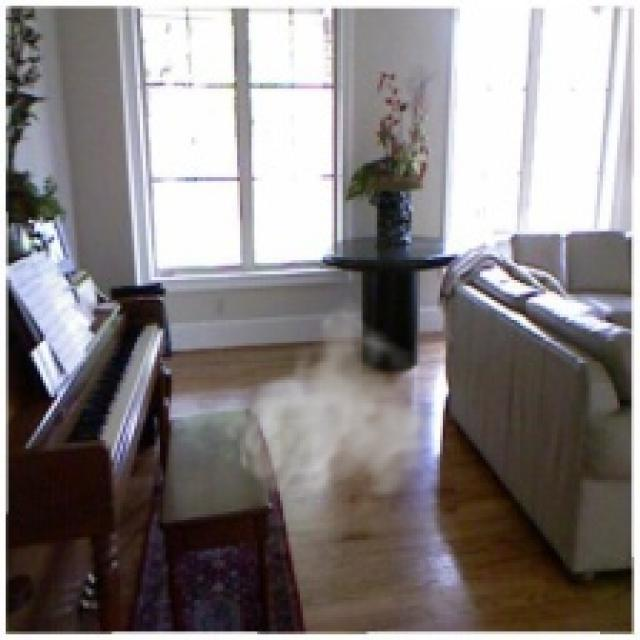Smoke: (220, 291, 440, 526)
